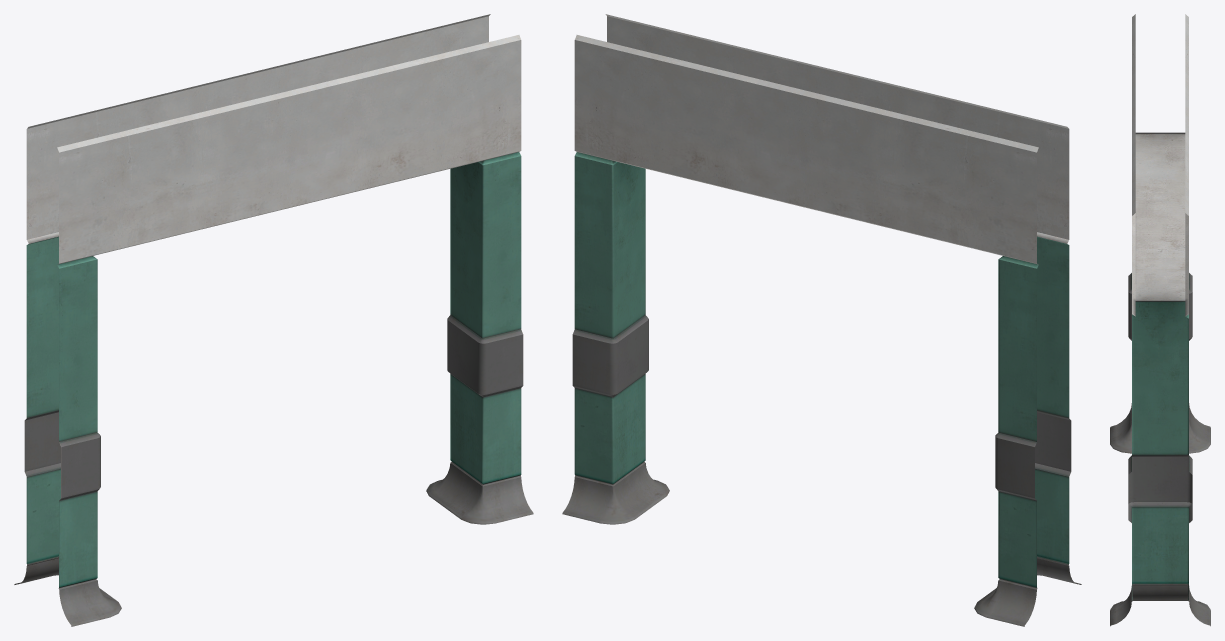
File: hospital_corridor_doorway_large.dae
The picture shows the model from 3 angles, left to right: view 1: azimuth 30°, elevation 25°; view 2: azimuth 150°, elevation 25°; view 3: azimuth 270°, elevation 25°; orthographic projection. The views are drawn at different scales.
Visible parts, largest first — view 1: doorway_large; view 2: doorway_large; view 3: doorway_large.
Part boxes in pixels (x1,y1,x2,y2): doorway_large: [14, 14, 533, 626]; doorway_large: [562, 14, 1081, 626]; doorway_large: [1110, 14, 1210, 626].
Size of the model in its own units: 4.13 by 4 by 0.8828.
